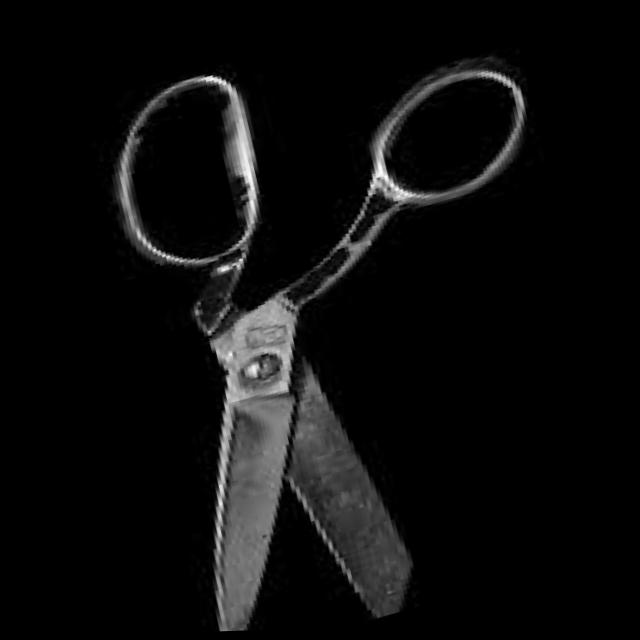scissor: (82, 0, 636, 637)
